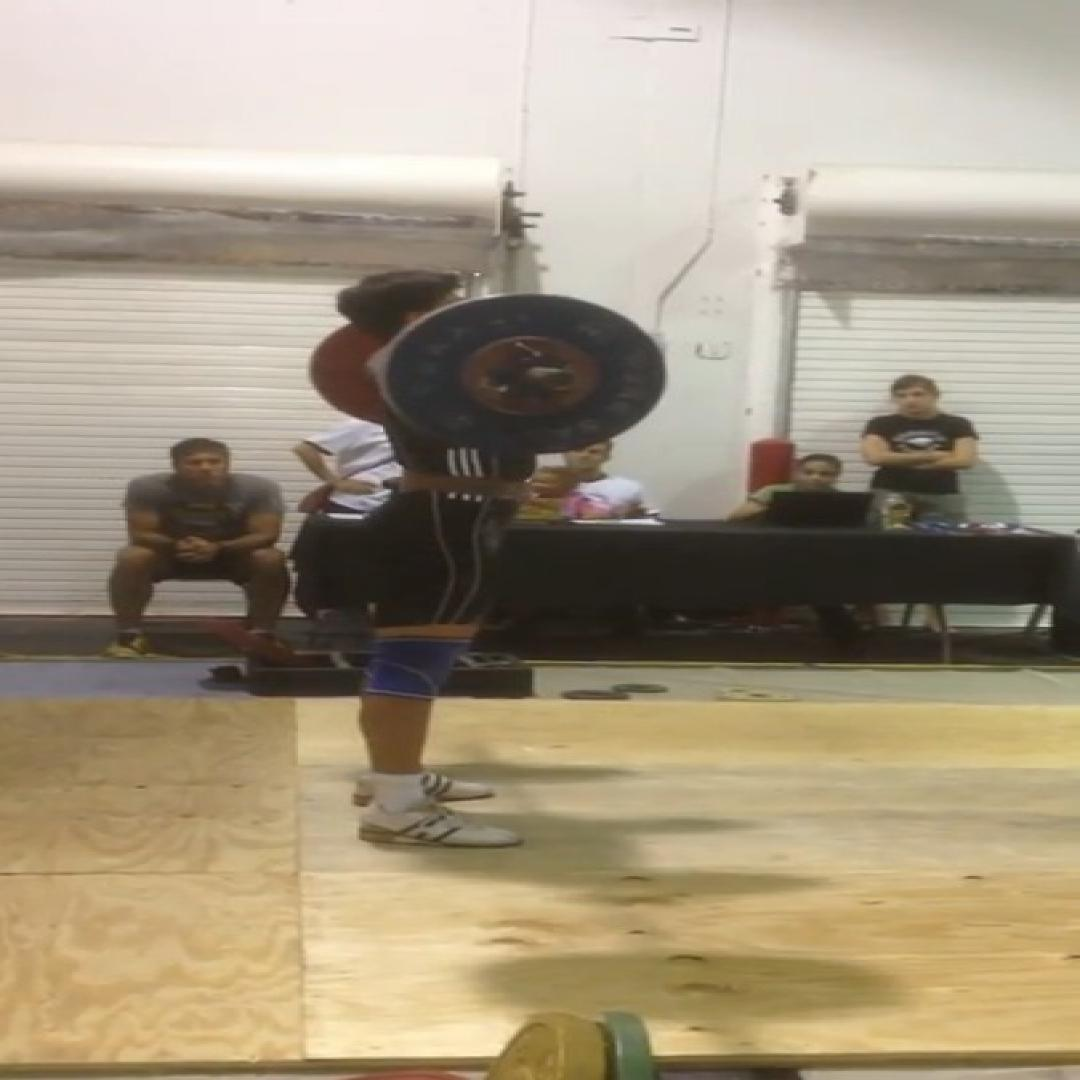Bar: (543, 370, 577, 392)
Barbell: (386, 294, 665, 452)
